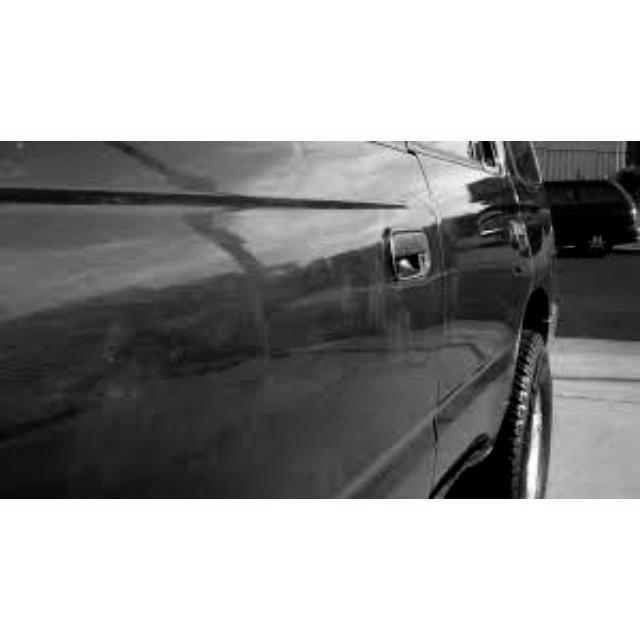doorouter-dent: (120, 148, 442, 493)
